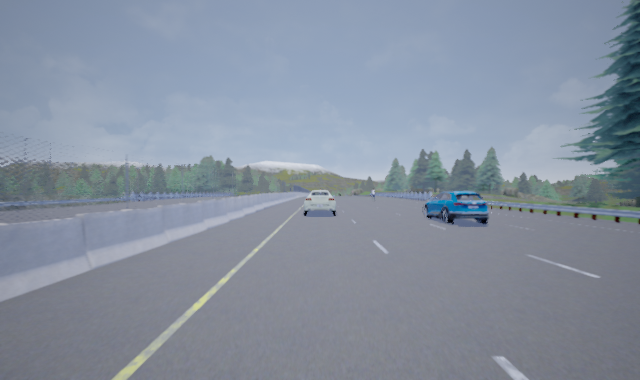vehicle: (421, 191, 492, 224), (302, 189, 337, 215)
